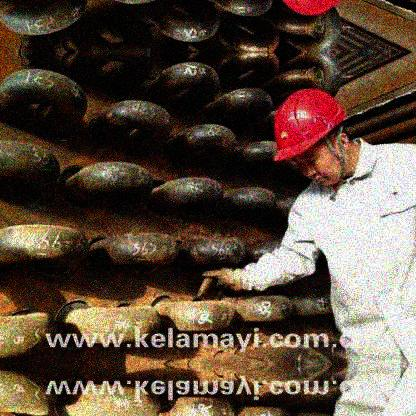helmet: (269, 85, 358, 191)
